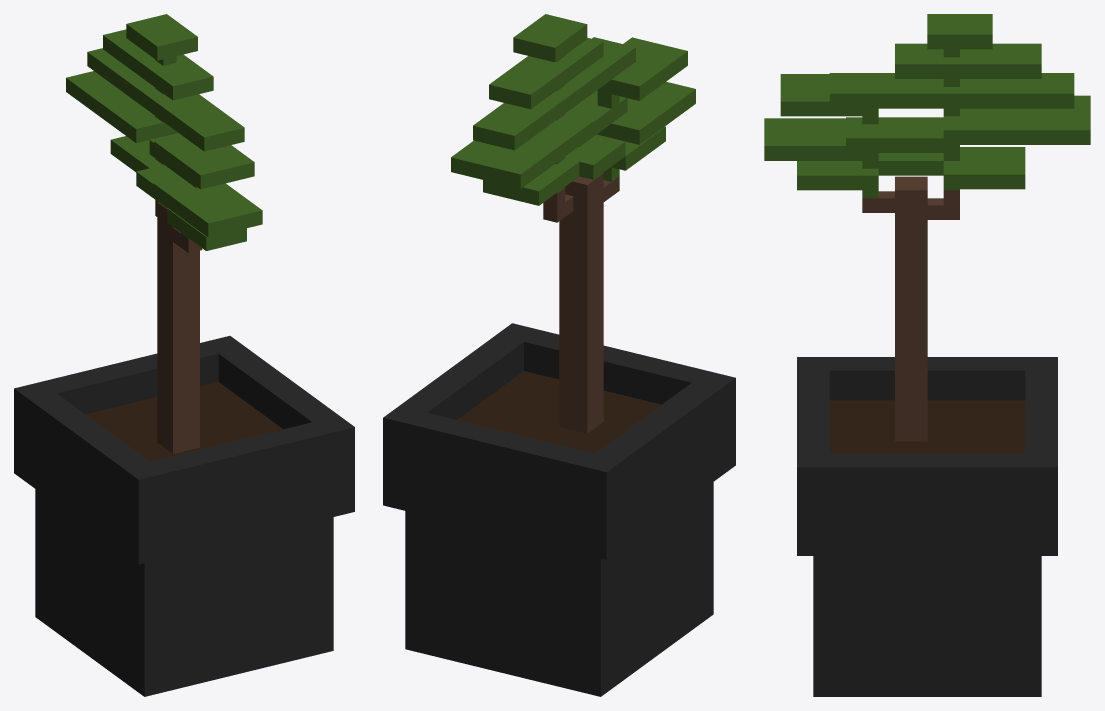
The model's file is plant_big_01.glb.
The picture shows the model from 3 angles, left to right: view 1: azimuth 30°, elevation 25°; view 2: azimuth 150°, elevation 25°; view 3: azimuth 270°, elevation 25°; orthographic projection. The views are drawn at different scales.
Parts seen in each view (by area): view 1: Untitled; view 2: Untitled; view 3: Untitled.
Part boxes in pixels (box(x1,y1,x2,y2)): Untitled: box(14, 14, 354, 696); Untitled: box(383, 14, 735, 696); Untitled: box(764, 14, 1090, 696).
Size of the model in its own units: 0.48 by 1.26 by 0.6.
1 material, 1 textured.
